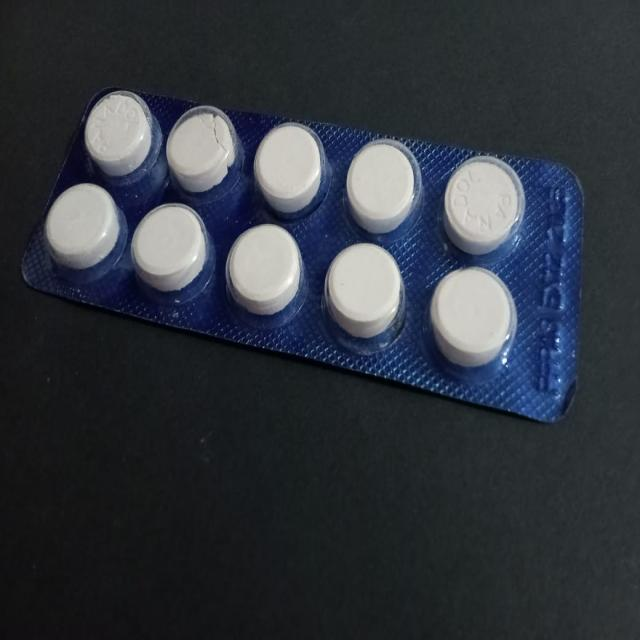defect: (164, 103, 242, 195)
